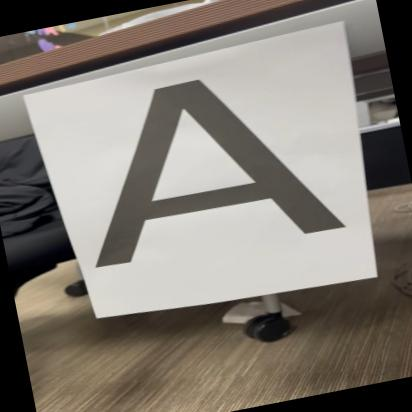seat: (51, 46, 359, 282)
